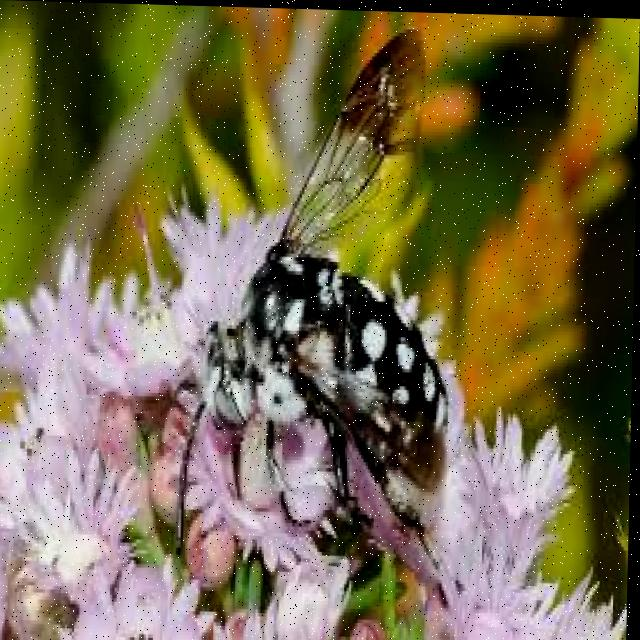Thyreus: (175, 22, 472, 603)
